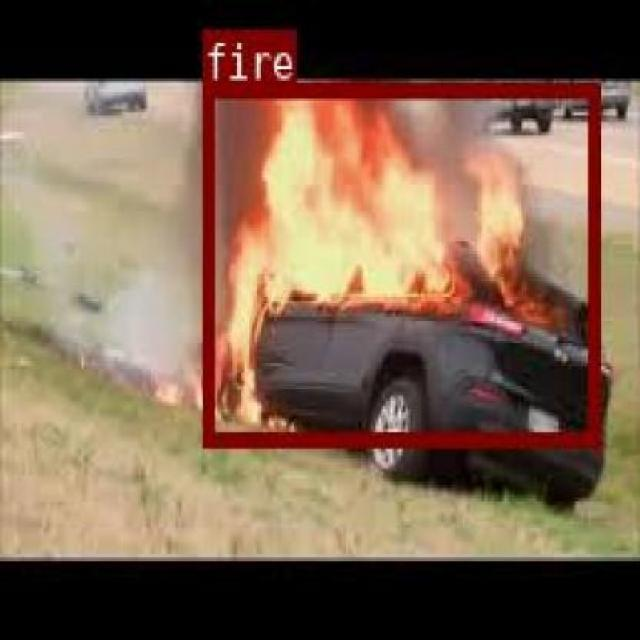fire: (201, 81, 597, 444)
